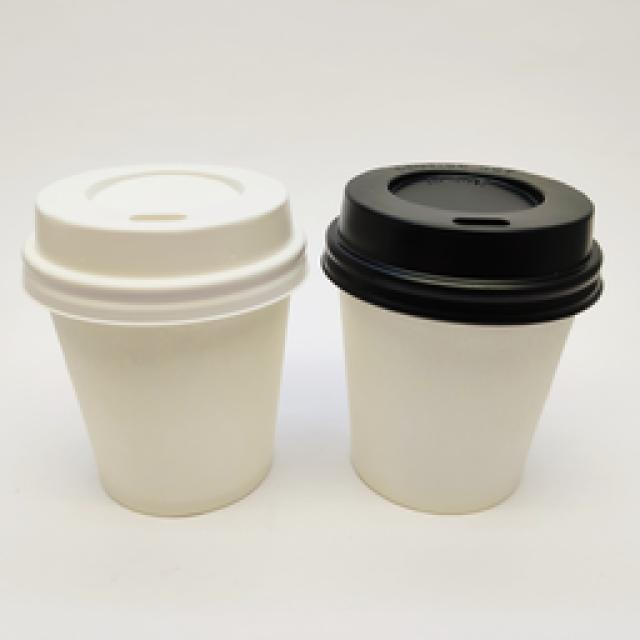paper_cups: (20, 172, 306, 524), (325, 160, 607, 512)
